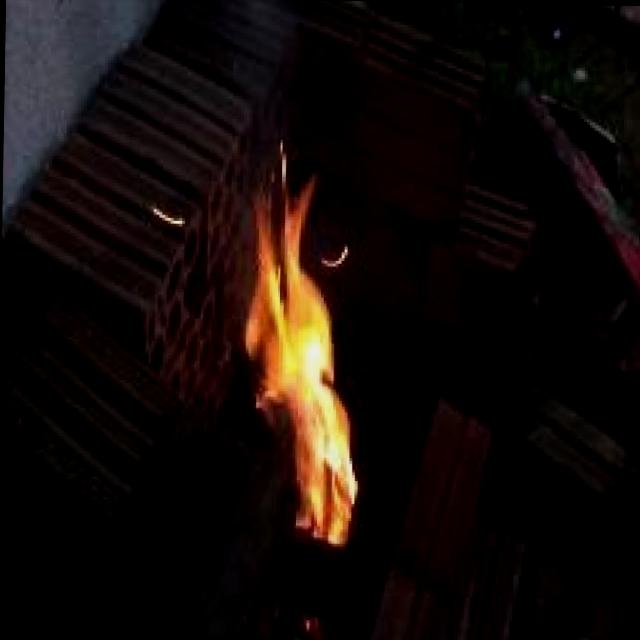fire: (227, 163, 368, 576)
